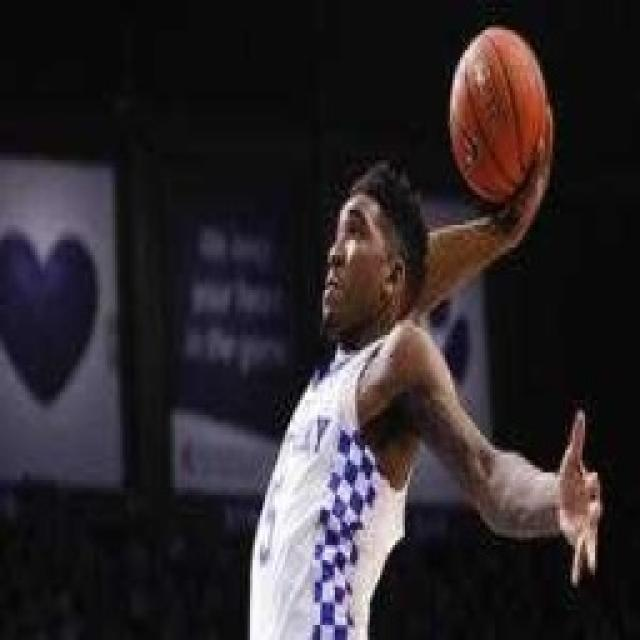rim: (448, 15, 551, 204)
